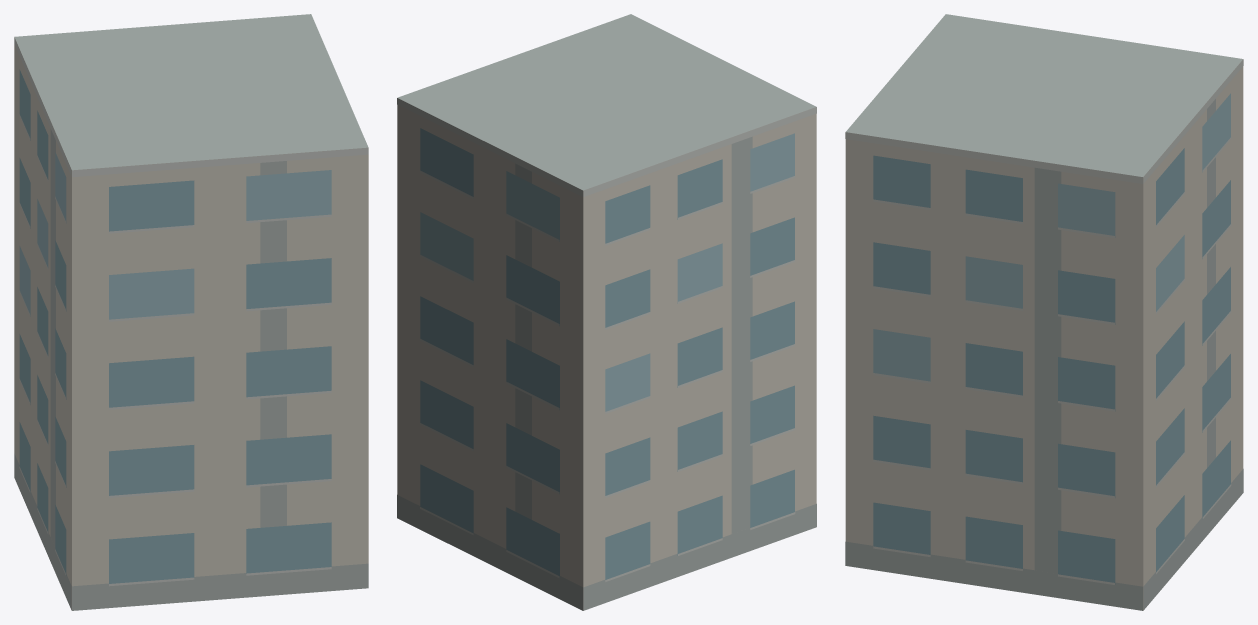
File: residential-6868526f-6312-4400-9769-7e5fc81e434d.glb
3 views of the same model, side by side, from view 1: azimuth 30°, elevation 25°; view 2: azimuth 150°, elevation 25°; view 3: azimuth 270°, elevation 25° (orthographic). The views are drawn at different scales.
Visible parts, largest first — view 1: residential-6868526f-6312-4400-9769-7e5fc81e434d.tmp; view 2: residential-6868526f-6312-4400-9769-7e5fc81e434d.tmp; view 3: residential-6868526f-6312-4400-9769-7e5fc81e434d.tmp.
Part boxes in pixels (box(x1,y1,x2,y2)): residential-6868526f-6312-4400-9769-7e5fc81e434d.tmp: box(14, 14, 368, 610); residential-6868526f-6312-4400-9769-7e5fc81e434d.tmp: box(397, 14, 816, 610); residential-6868526f-6312-4400-9769-7e5fc81e434d.tmp: box(845, 14, 1243, 610).
Bounding box in the file's own units: 12.31 × 15.25 × 12.69.
